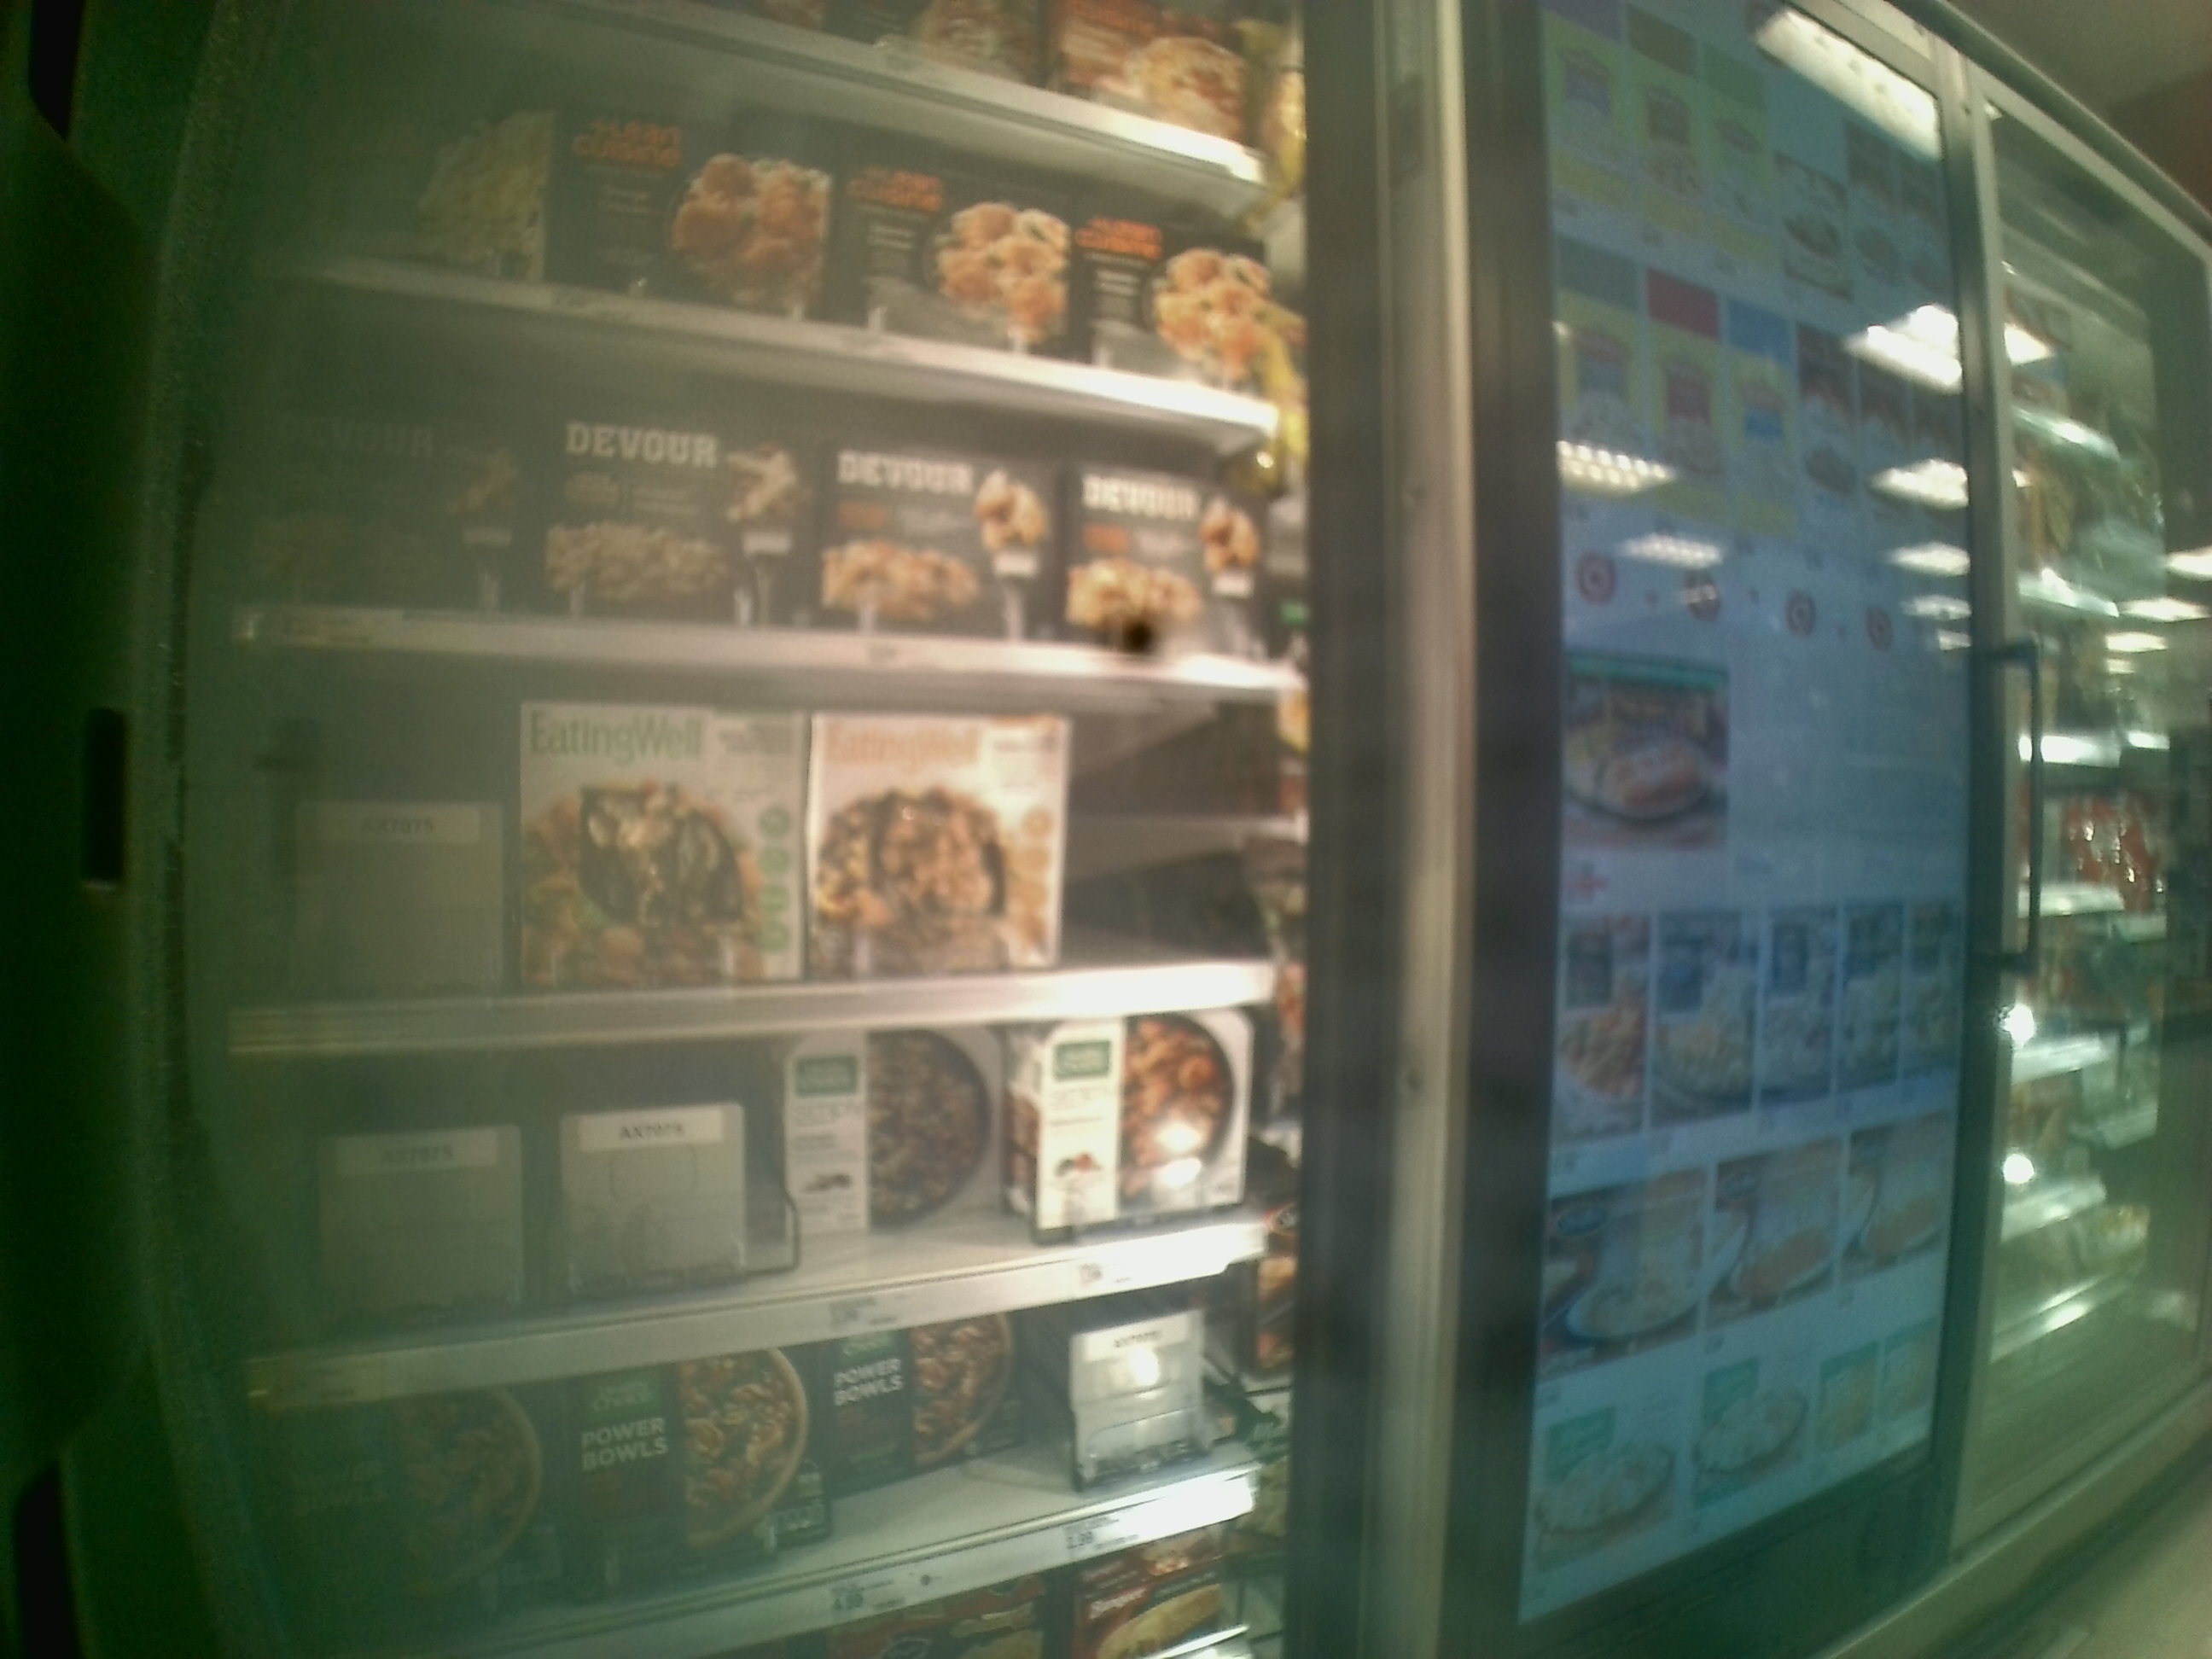shelf: (223, 643, 1313, 1044)
